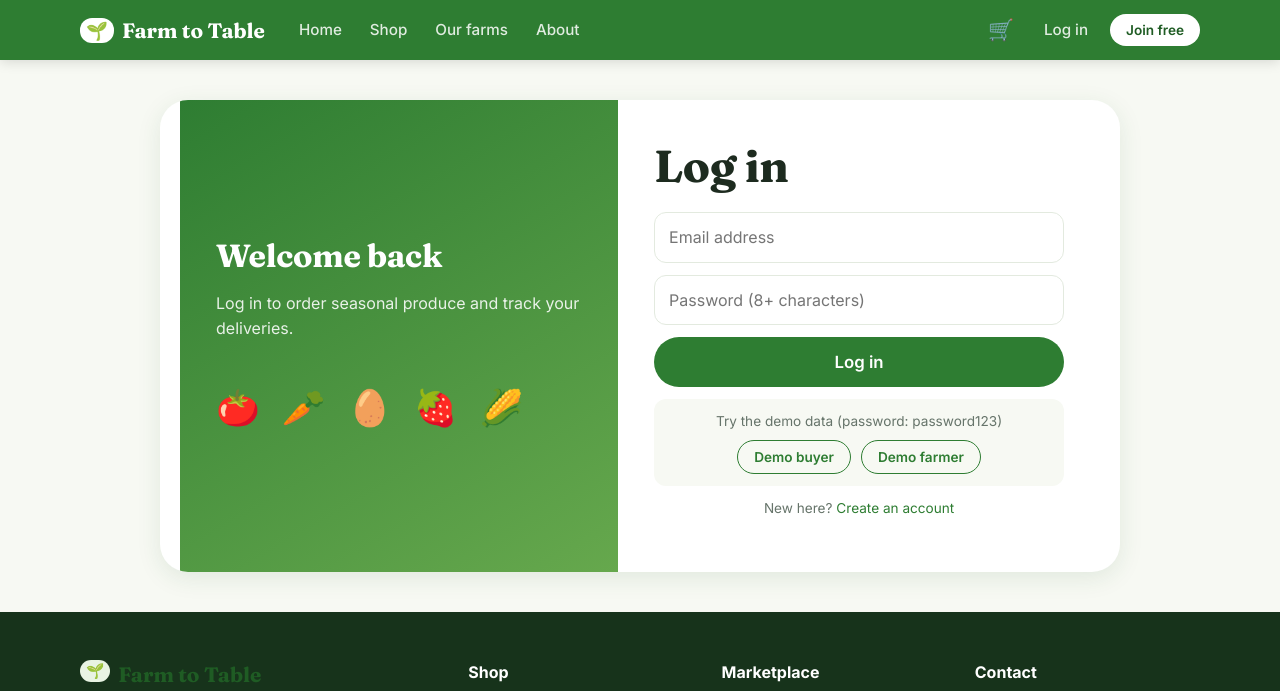
Test: Farm-to-Table Frontend Tests › 2. Displays invalid login error
In the field with placeholder "Email address": [859, 237] box [654,212,1064,263], type "buyer@example.com"
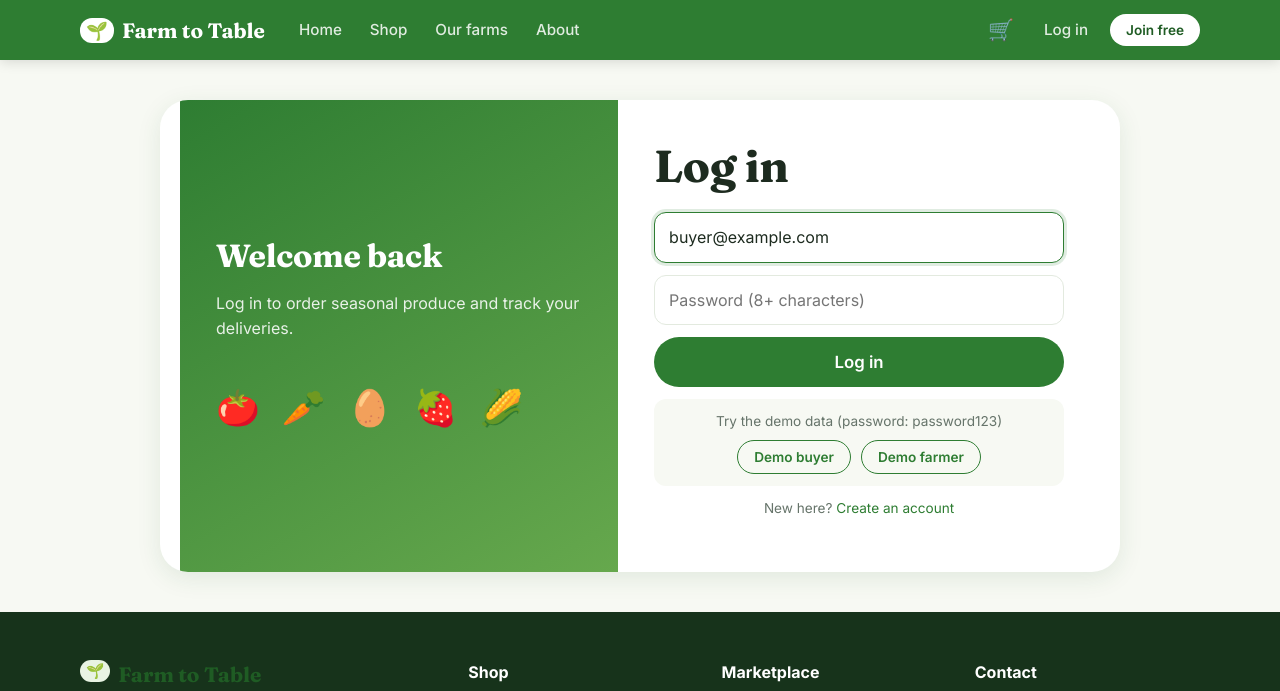
In the password field with placeholder "Password (8+ characters)": [859, 300] box [654,274,1064,325], type "wrongpassword"
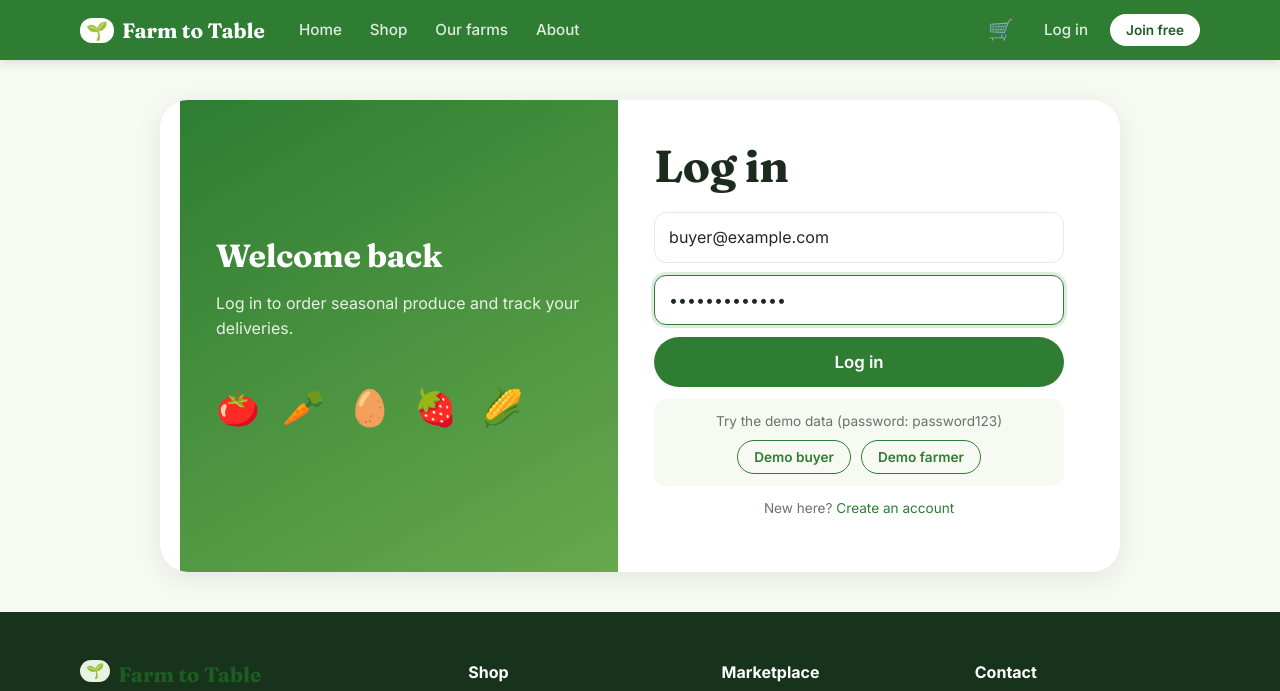
Click the button "Log in": [859, 362] box [654,337,1064,387]
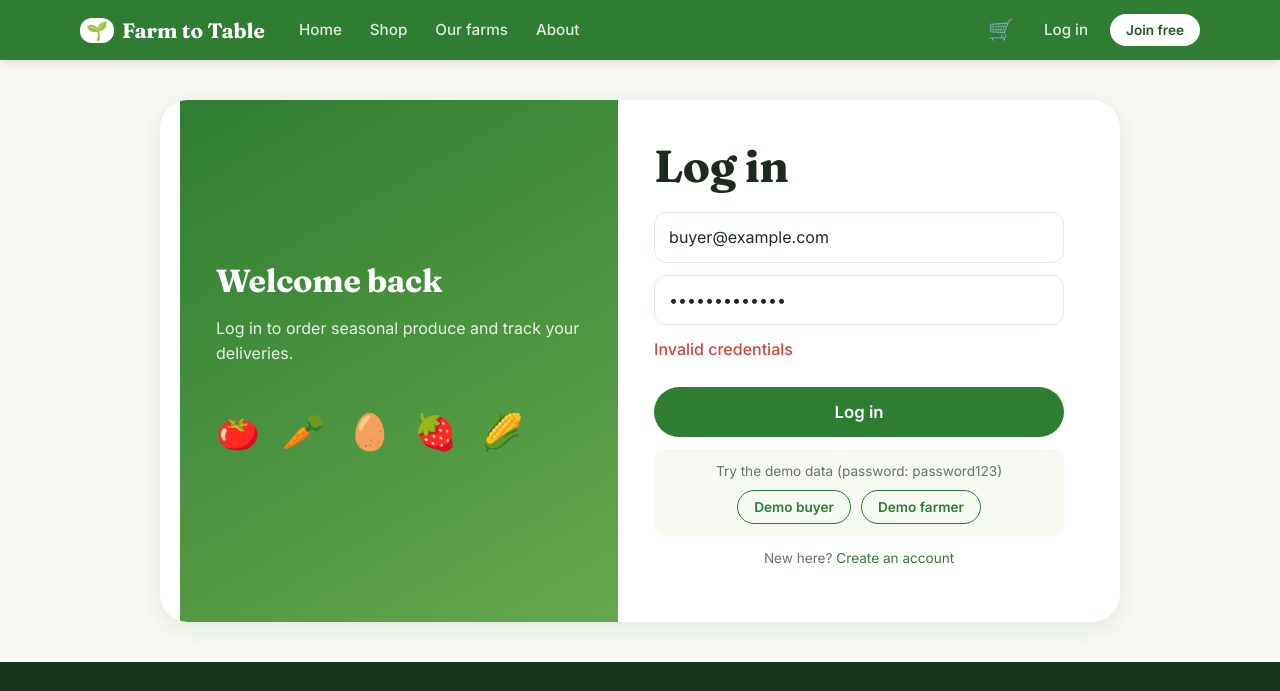
Now the text "Invalid credentials" is shown, box [654,339,793,359]
